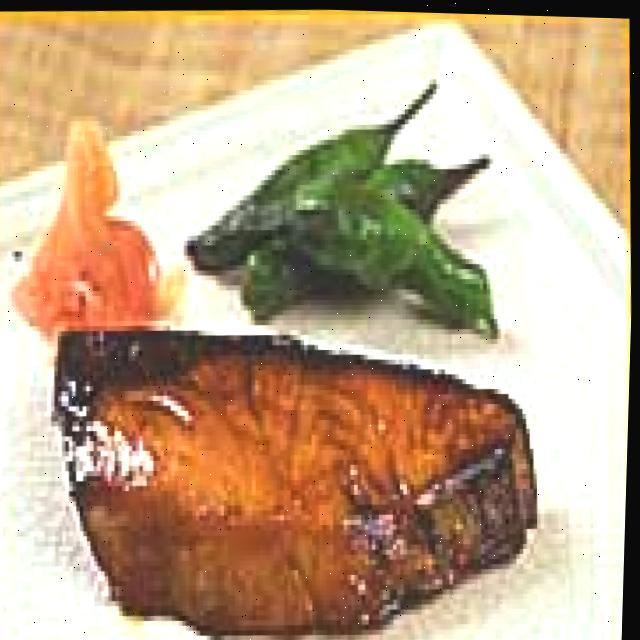熟制海鲜: (16, 258, 557, 640)
